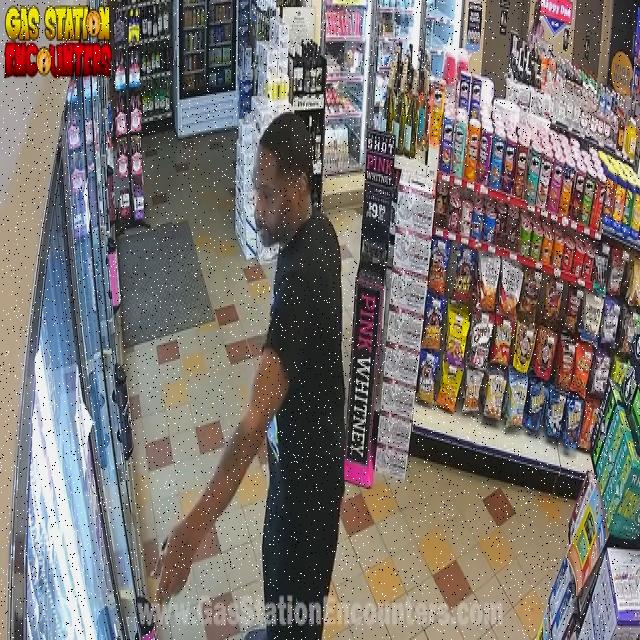hands: (152, 350, 287, 601)
person: (154, 114, 344, 638)
